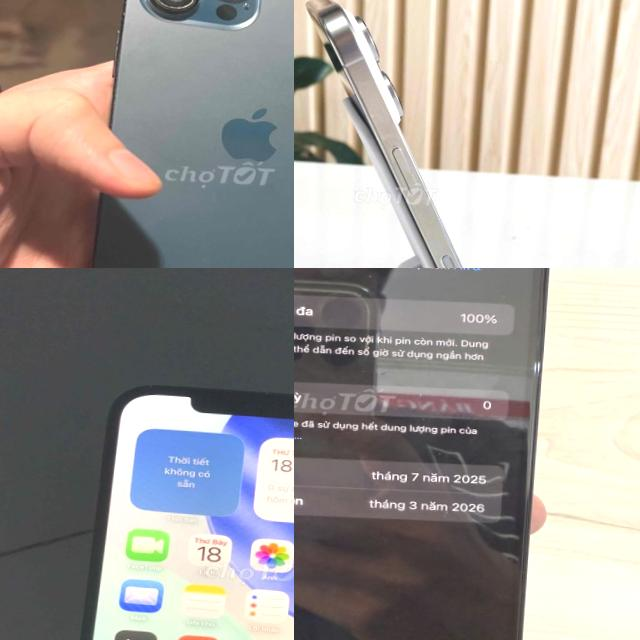gen_12_13: (52, 369, 294, 640), (68, 0, 294, 268)
gen_15: (294, 268, 565, 640)
gen_16: (294, 0, 543, 268)
